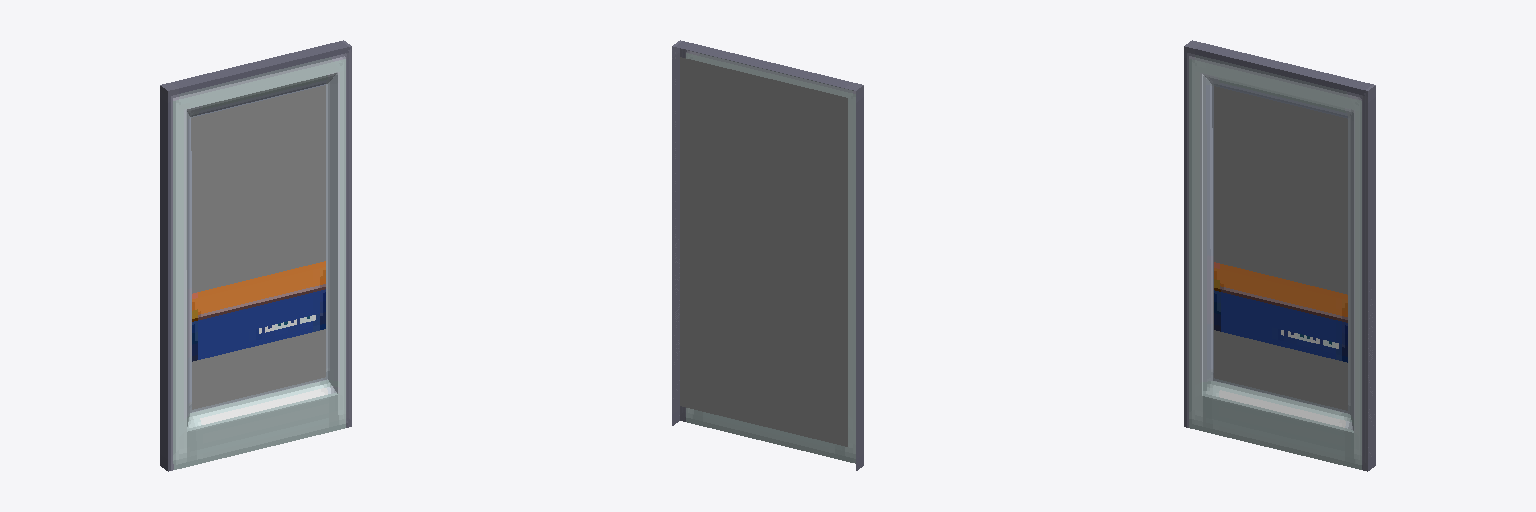
3 renders of one model, left to right at view 1: azimuth 30°, elevation 25°; view 2: azimuth 150°, elevation 25°; view 3: azimuth 330°, elevation 25°, orthographic.
Parts seen in each view (by area): view 1: vsn_mesh_0_door_mesh_0_door, vsn_mesh_1_door_mesh_1_door; view 2: vsn_mesh_1_door_mesh_1_door, vsn_mesh_0_door_mesh_0_door; view 3: vsn_mesh_0_door_mesh_0_door, vsn_mesh_1_door_mesh_1_door.
Part boxes in pixels (left/top/right/bottom): vsn_mesh_0_door_mesh_0_door: left=160, top=40, right=351, bottom=471; vsn_mesh_1_door_mesh_1_door: left=191, top=85, right=325, bottom=409; vsn_mesh_1_door_mesh_1_door: left=680, top=57, right=847, bottom=446; vsn_mesh_0_door_mesh_0_door: left=672, top=40, right=863, bottom=470; vsn_mesh_0_door_mesh_0_door: left=1184, top=40, right=1375, bottom=471; vsn_mesh_1_door_mesh_1_door: left=1214, top=86, right=1347, bottom=410.
Bounding box in the file's own units: 0.3257 × 0.644 × 0.025.
Materials: 2 (1 with a texture image).